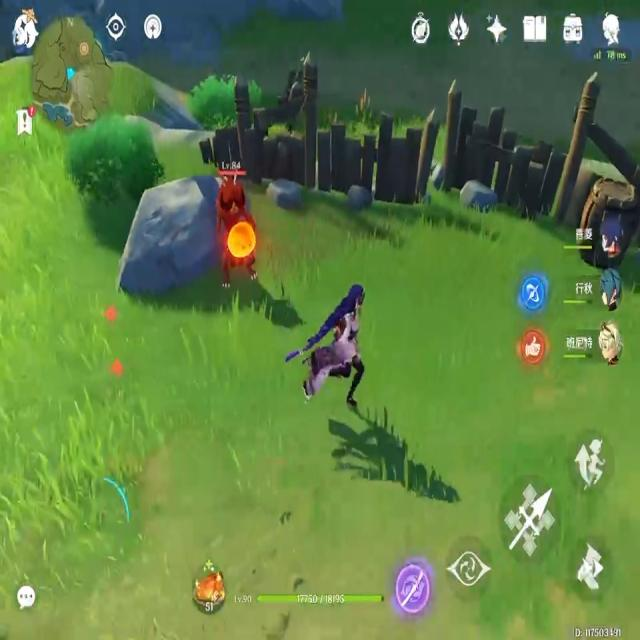genshin-hilichurls: (211, 159, 260, 288)
